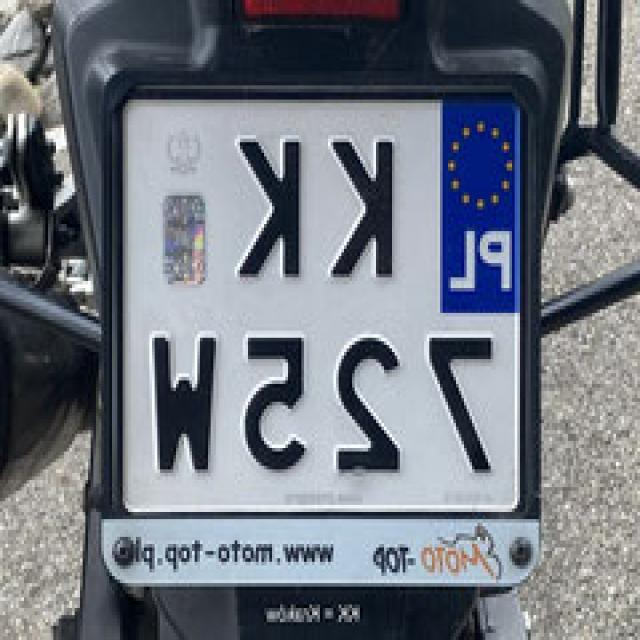pl_license_plate: (125, 96, 523, 505)
